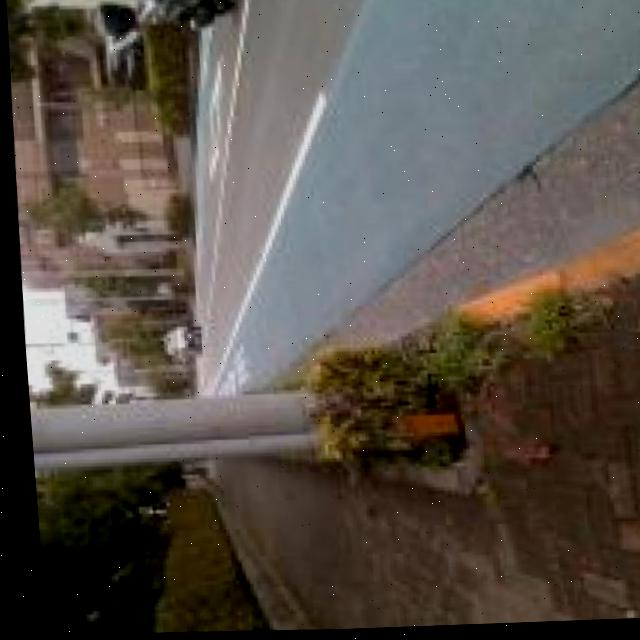Automobile: (101, 0, 233, 145), (157, 319, 192, 365)
Obstacle: (24, 328, 508, 468)
Road: (191, 0, 640, 395)
Sidewalk: (209, 280, 640, 631)
